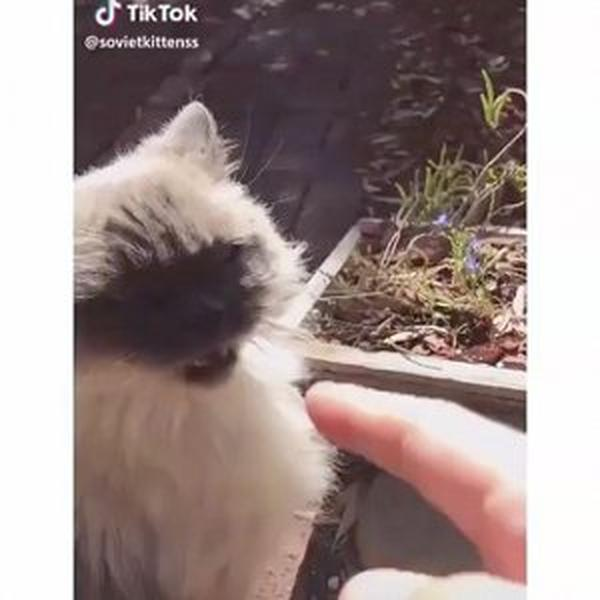michi: (75, 94, 323, 600)
